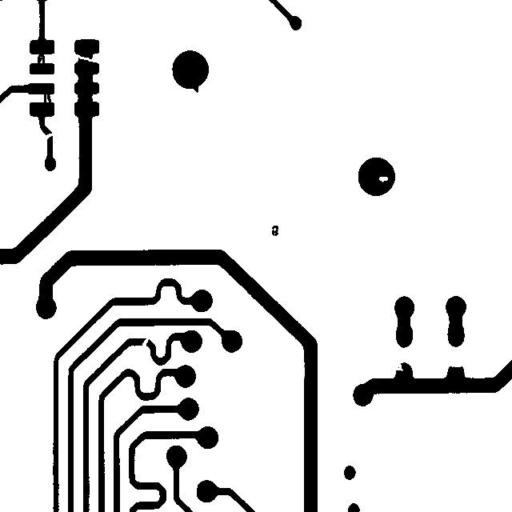copper: (264, 218, 286, 243)
mousebite: (440, 354, 471, 374), (386, 355, 410, 378)
open: (67, 46, 102, 69), (134, 328, 156, 354), (38, 126, 61, 146)
pin-hole: (371, 169, 395, 190)
short: (30, 40, 55, 73), (36, 82, 58, 111)
spur: (182, 76, 206, 100)
